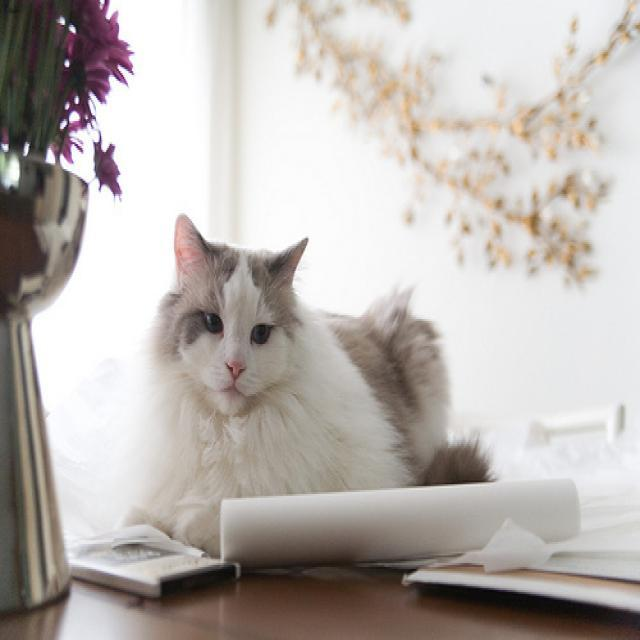Ragdoll: (173, 212, 306, 414)
